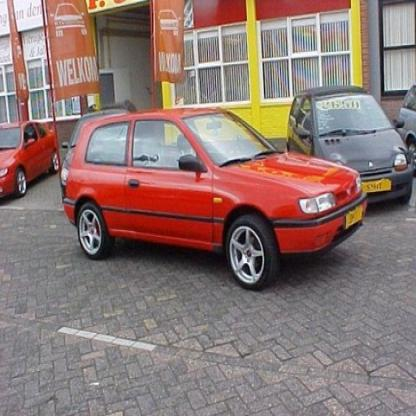car: (63, 103, 366, 289), (287, 80, 413, 202), (59, 97, 137, 199), (0, 116, 59, 198), (397, 80, 415, 172)
